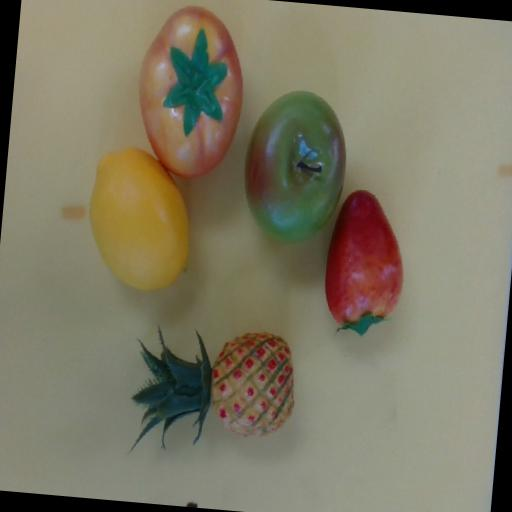apple: (239, 87, 351, 246)
lemon: (79, 140, 198, 298)
mango: (315, 187, 417, 340)
pineapple: (132, 328, 294, 448)
tomato: (137, 5, 245, 179)
